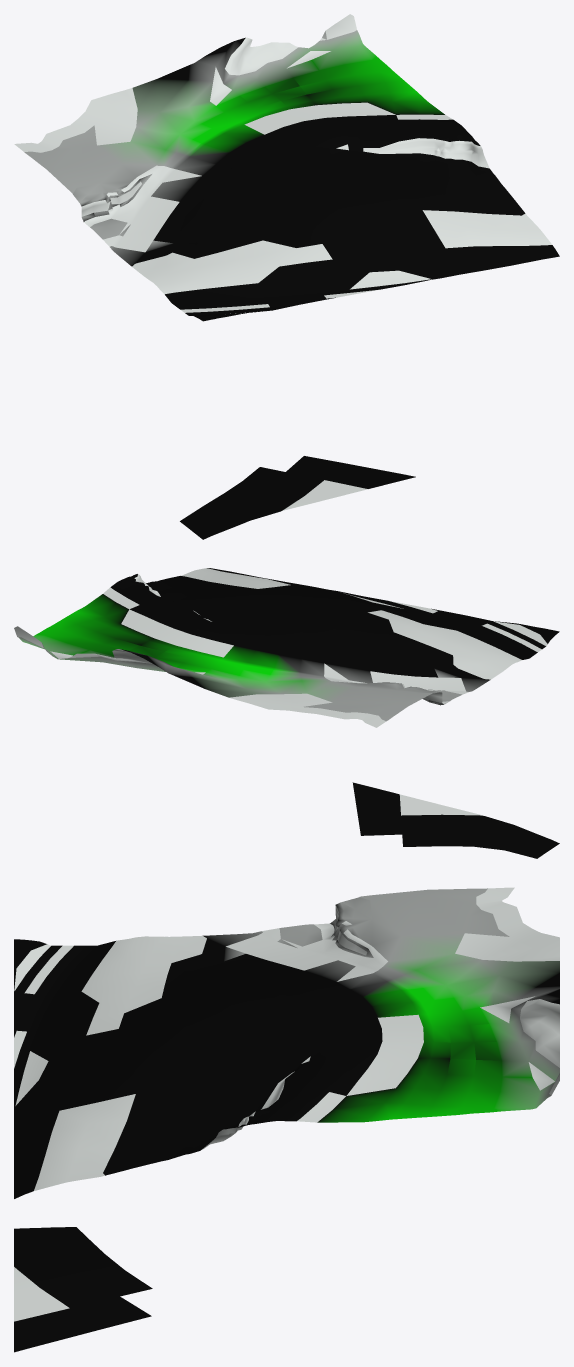
The picture shows the model from 3 angles, top to bottom: view 1: azimuth 30°, elevation 25°; view 2: azimuth 150°, elevation 25°; view 3: azimuth 270°, elevation 25°; orthographic projection. The views are drawn at different scales.
Visible parts, largest first — view 1: G:\FFXIV-MapTools\exports\k5f1\bg\ex4\03_kld_k5\fld\k5f1\bgp (×8); view 2: G:\FFXIV-MapTools\exports\k5f1\bg\ex4\03_kld_k5\fld\k5f1\bgp (×8); view 3: G:\FFXIV-MapTools\exports\k5f1\bg\ex4\03_kld_k5\fld\k5f1\bgp (×9).
Part boxes in pixels (bbox=[...]): G:\FFXIV-MapTools\exports\k5f1\bg\ex4\03_kld_k5\fld\k5f1\bgp (×8): bbox=[14, 14, 559, 539]; G:\FFXIV-MapTools\exports\k5f1\bg\ex4\03_kld_k5\fld\k5f1\bgp (×8): bbox=[14, 568, 559, 858]; G:\FFXIV-MapTools\exports\k5f1\bg\ex4\03_kld_k5\fld\k5f1\bgp (×9): bbox=[14, 887, 559, 1352].
Bounding box in the file's own units: 128 × 99.65 × 128.
